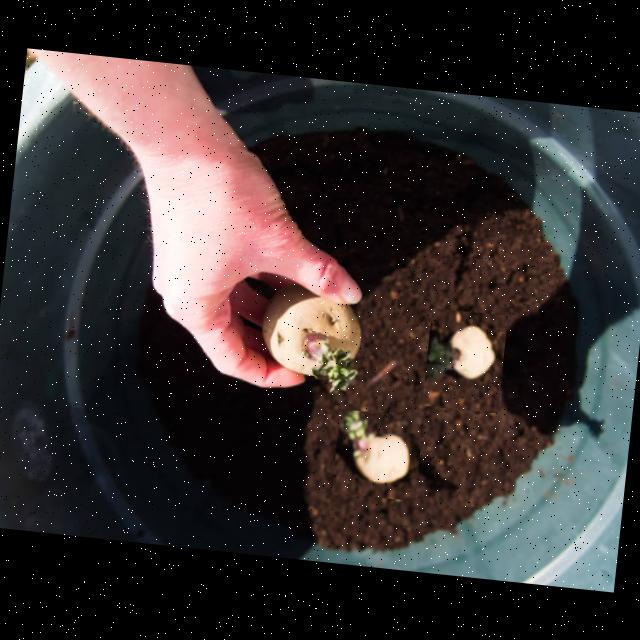Sprouted potato: (236, 262, 386, 404), (422, 308, 508, 413), (331, 408, 423, 501)
